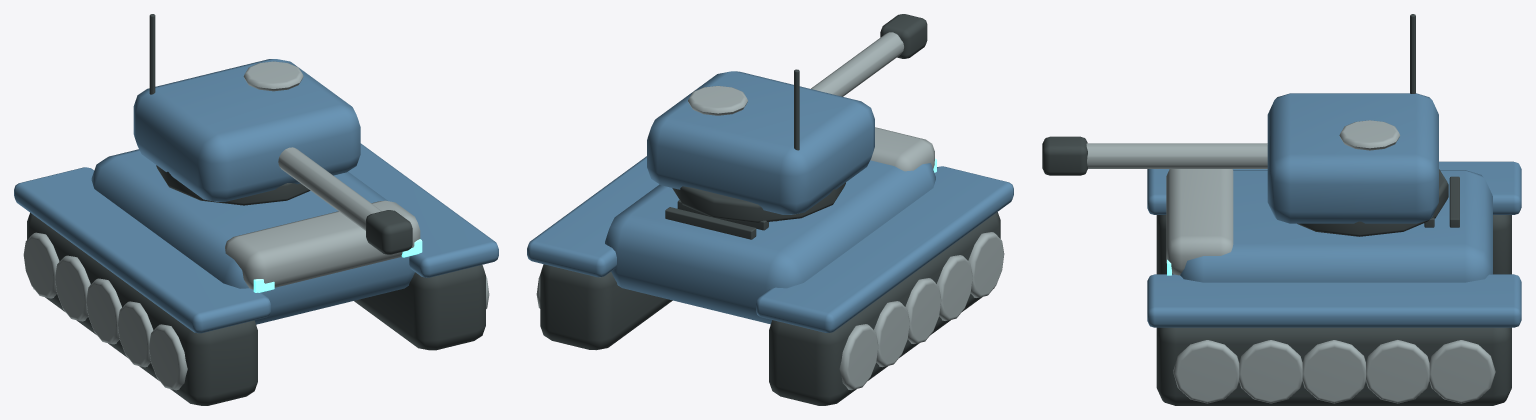
File: tank.glb
3 views of the same model, side by side, from view 1: azimuth 30°, elevation 25°; view 2: azimuth 150°, elevation 25°; view 3: azimuth 270°, elevation 25° (orthographic).
Visible parts, largest first — view 1: Turret, Sloped hull, Track fender, Track assembly, Forward armor, Track assembly.001, Track fender.001, Main barrel, Road wheel, Road wheel.003, Road wheel.001, Road wheel.004 (+5 smaller); view 2: Sloped hull, Turret, Track fender, Track assembly, Track assembly.001, Track fender.001, Turret collar, Main barrel, Forward armor, Road wheel.004, Road wheel, Road wheel.002 (+6 smaller); view 3: Turret, Sloped hull, Track fender.001, Track assembly.001, Forward armor, Main barrel, Road wheel.005, Road wheel.009, Road wheel.007, Road wheel.008, Road wheel.006, Track fender (+6 smaller).
Part boxes in pixels (<box>): Turret: <box>133,59,360,201</box>; Sloped hull: <box>91,149,414,324</box>; Track fender: <box>14,167,270,333</box>; Track assembly: <box>27,212,257,405</box>; Forward armor: <box>225,200,420,289</box>; Track assembly.001: <box>354,265,485,350</box>; Track fender.001: <box>348,143,498,277</box>; Main barrel: <box>278,147,381,230</box>; Road wheel: <box>149,324,187,390</box>; Road wheel.003: <box>55,255,90,321</box>; Road wheel.001: <box>117,301,153,367</box>; Road wheel.004: <box>23,232,59,298</box>; Sloped hull: <box>605,160,935,324</box>; Turret: <box>647,71,874,214</box>; Track fender: <box>756,166,1013,332</box>; Track assembly: <box>769,212,1000,405</box>; Track assembly.001: <box>540,264,672,350</box>; Track fender.001: <box>527,156,659,277</box>; Turret collar: <box>672,182,845,222</box>; Main barrel: <box>811,32,903,96</box>; Forward armor: <box>870,127,934,171</box>; Road wheel.004: <box>839,324,878,390</box>; Road wheel: <box>968,232,1004,297</box>; Road wheel.002: <box>905,278,941,343</box>; Turret: <box>1267,93,1438,223</box>; Sloped hull: <box>1180,170,1492,282</box>; Track fender.001: <box>1147,274,1521,327</box>; Track assembly.001: <box>1156,327,1511,405</box>; Forward armor: <box>1166,169,1233,275</box>; Main barrel: <box>1086,143,1267,168</box>; Road wheel.005: <box>1173,340,1239,403</box>; Road wheel.009: <box>1429,340,1495,403</box>; Road wheel.007: <box>1302,340,1365,403</box>; Road wheel.008: <box>1366,340,1429,403</box>; Road wheel.006: <box>1239,340,1302,403</box>; Track fender: <box>1147,161,1521,214</box>.
Bounding box in the file's own units: 2.86 × 2.54 × 3.77.
